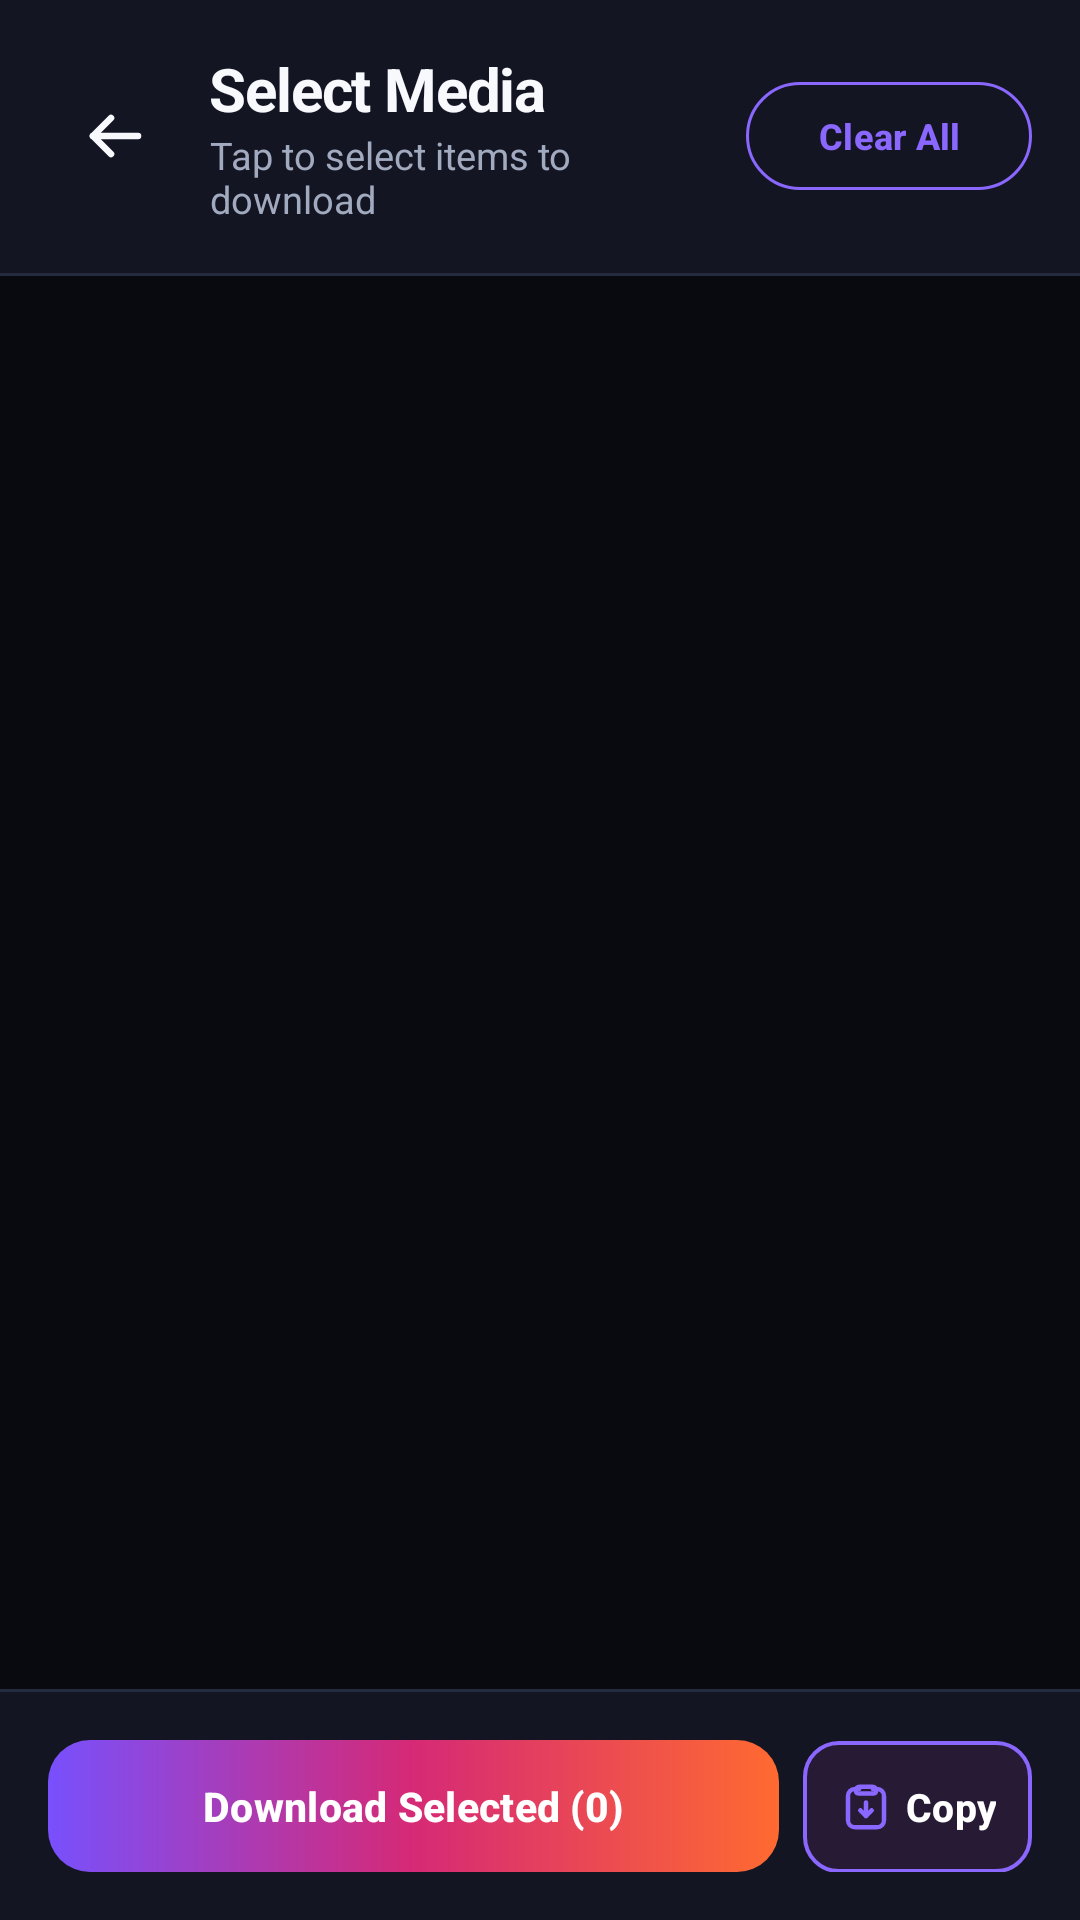

Named icons in this screenshot (1080px x 1920px) and their bounding boxes, (x1, y1, x2, y2):
Back: (89, 114, 142, 158)
